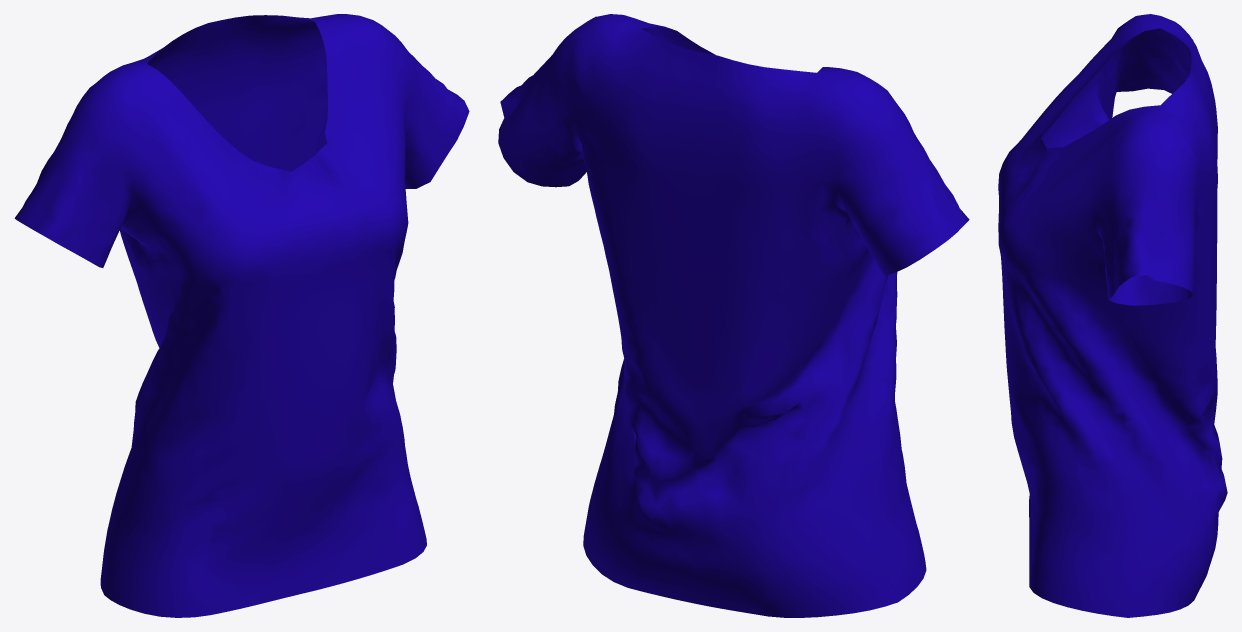
The model's file is female tshirt2.glb.
3 renders of one model, left to right at view 1: azimuth 30°, elevation 25°; view 2: azimuth 150°, elevation 25°; view 3: azimuth 270°, elevation 25°, orthographic. The views are drawn at different scales.
Visible parts, largest first — view 1: Simple women .t shirt; view 2: Simple women .t shirt; view 3: Simple women .t shirt.
Part boxes in pixels (x1,y1,x2,y2): Simple women .t shirt: [14, 14, 469, 617]; Simple women .t shirt: [498, 14, 969, 617]; Simple women .t shirt: [998, 14, 1227, 617].
Size of the model in its own units: 0.5824 by 0.6698 by 0.2784.
